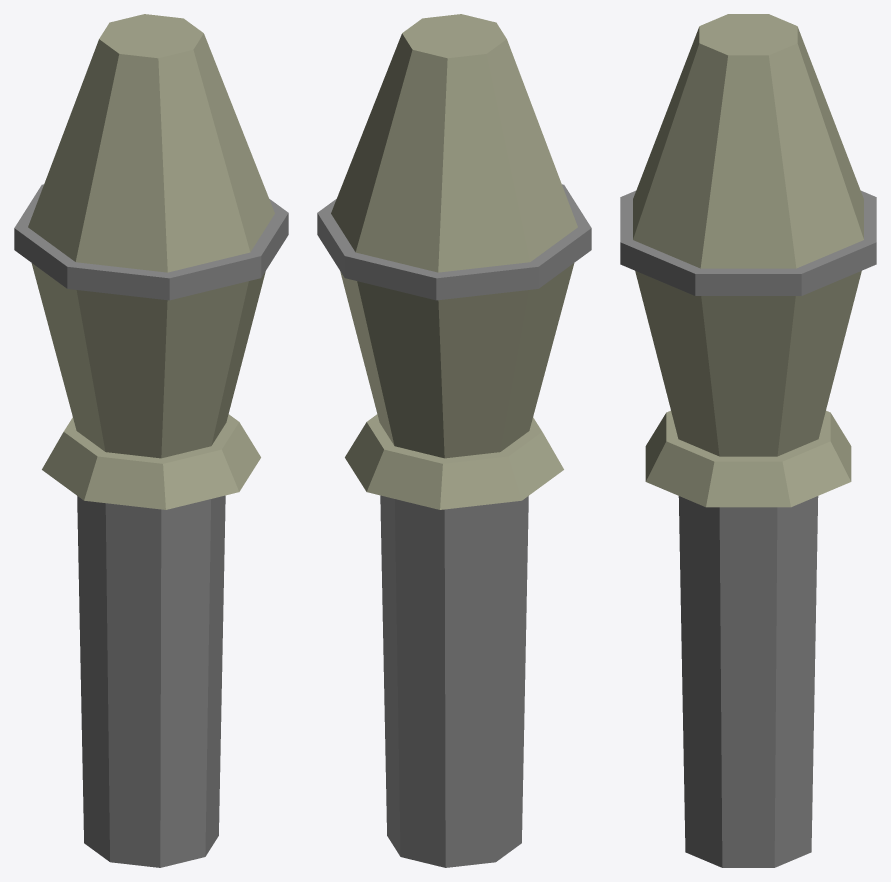
Rendered from ammo_rocket.fbx.
3 views of the same model, side by side, from view 1: azimuth 30°, elevation 25°; view 2: azimuth 150°, elevation 25°; view 3: azimuth 270°, elevation 25° (orthographic).
Visible parts, largest first — view 1: imagetostl_mesh27, imagetostl_mesh3, imagetostl_mesh76, imagetostl_mesh74, imagetostl_mesh35, imagetostl_mesh55, imagetostl_mesh26, imagetostl_mesh67, imagetostl_mesh73, imagetostl_mesh31, imagetostl_mesh2, imagetostl_mesh14 (+11 smaller); view 2: imagetostl_mesh23, imagetostl_mesh24, imagetostl_mesh69, imagetostl_mesh70, imagetostl_mesh84, imagetostl_mesh44, imagetostl_mesh26, imagetostl_mesh67, imagetostl_mesh71, imagetostl_mesh31, imagetostl_mesh25, imagetostl_mesh87 (+10 smaller); view 3: imagetostl_mesh1, imagetostl_mesh72, imagetostl_mesh2, imagetostl_mesh25, imagetostl_mesh57, imagetostl_mesh71, imagetostl_mesh73, imagetostl_mesh56, imagetostl_mesh58, imagetostl_mesh86, imagetostl_mesh68, imagetostl_mesh81 (+9 smaller).
Part boxes in pixels (x1,y1,x2,y2): imagetostl_mesh27: (105, 503, 161, 867); imagetostl_mesh3: (160, 499, 211, 867); imagetostl_mesh76: (75, 54, 167, 272); imagetostl_mesh74: (158, 50, 250, 272); imagetostl_mesh35: (76, 290, 167, 458); imagetostl_mesh55: (161, 281, 248, 458); imagetostl_mesh26: (77, 496, 109, 861); imagetostl_mesh67: (28, 39, 119, 261); imagetostl_mesh73: (193, 33, 274, 251); imagetostl_mesh31: (31, 263, 105, 451); imagetostl_mesh2: (205, 495, 225, 856); imagetostl_mesh14: (84, 456, 165, 509); imagetostl_mesh23: (444, 503, 500, 867); imagetostl_mesh24: (394, 499, 445, 867); imagetostl_mesh69: (438, 54, 530, 272); imagetostl_mesh70: (355, 50, 447, 272); imagetostl_mesh84: (438, 290, 529, 458); imagetostl_mesh44: (357, 281, 444, 458); imagetostl_mesh26: (496, 496, 528, 861); imagetostl_mesh67: (486, 39, 577, 261); imagetostl_mesh71: (331, 33, 412, 251); imagetostl_mesh31: (500, 263, 574, 451); imagetostl_mesh25: (380, 495, 400, 856); imagetostl_mesh87: (440, 456, 521, 509); imagetostl_mesh1: (719, 507, 777, 867); imagetostl_mesh72: (700, 55, 796, 268); imagetostl_mesh2: (678, 496, 722, 867); imagetostl_mesh25: (774, 496, 818, 867); imagetostl_mesh57: (701, 296, 795, 456); imagetostl_mesh71: (769, 43, 863, 268); imagetostl_mesh73: (633, 43, 727, 268); imagetostl_mesh56: (635, 271, 719, 455); imagetostl_mesh58: (777, 271, 861, 455); imagetostl_mesh86: (706, 461, 790, 507); imagetostl_mesh68: (699, 14, 797, 55); imagetostl_mesh81: (695, 268, 801, 295).
Bounding box in the file's own units: 1.89 × 6.54 × 1.89.
